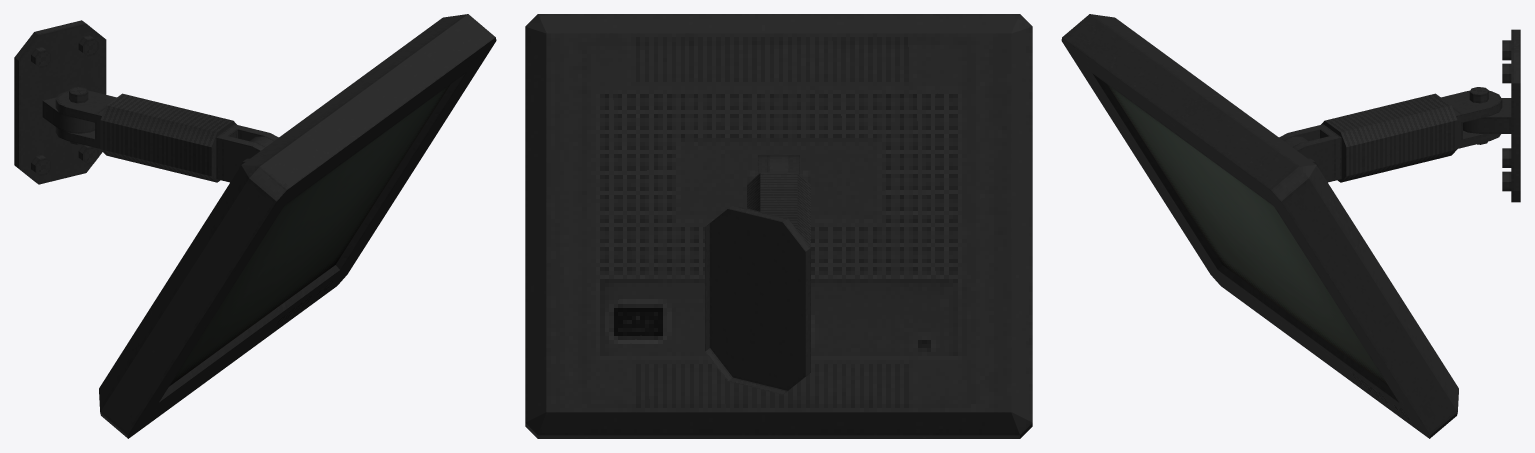
Rendered from monitoring_screen_mp_1_1.glb.
The picture shows the model from 3 angles, left to right: view 1: azimuth 30°, elevation 25°; view 2: azimuth 150°, elevation 25°; view 3: azimuth 270°, elevation 25°; orthographic projection. The views are drawn at different scales.
Parts seen in each view (by area): view 1: monitoring_screen_mp_1_1_display, monitoring_screen_mp_1_1_arm, monitoring_screen_mp_1_1; view 2: monitoring_screen_mp_1_1_display, monitoring_screen_mp_1_1, monitoring_screen_mp_1_1_arm; view 3: monitoring_screen_mp_1_1_display, monitoring_screen_mp_1_1_arm, monitoring_screen_mp_1_1.
Part boxes in pixels (bbox=[...]): monitoring_screen_mp_1_1_display: bbox=[99, 14, 496, 438]; monitoring_screen_mp_1_1_arm: bbox=[55, 87, 278, 182]; monitoring_screen_mp_1_1: bbox=[14, 20, 106, 184]; monitoring_screen_mp_1_1_display: bbox=[525, 14, 1032, 438]; monitoring_screen_mp_1_1: bbox=[705, 205, 810, 394]; monitoring_screen_mp_1_1_arm: bbox=[747, 155, 810, 247]; monitoring_screen_mp_1_1_display: bbox=[1061, 14, 1458, 438]; monitoring_screen_mp_1_1_arm: bbox=[1279, 87, 1502, 182]; monitoring_screen_mp_1_1: bbox=[1463, 29, 1520, 202].
Size of the model in its own units: 0.527 by 0.3664 by 0.5013.
Materials: 2 (2 with a texture image).
